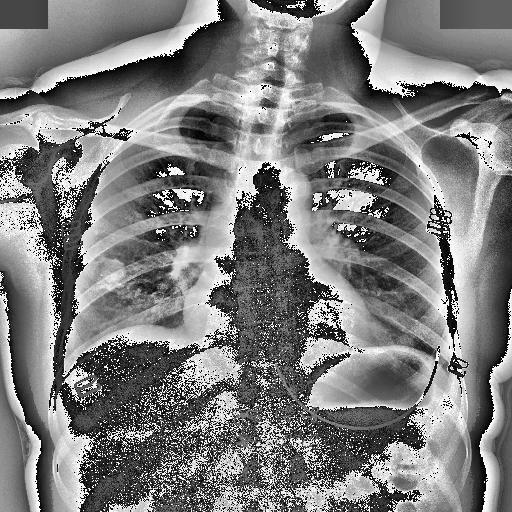0- Aortic enlargement: (252, 165, 312, 224)
7- Lung Opacity: (101, 256, 126, 292)
8- Nodule-Mass: (95, 258, 125, 284), (98, 258, 125, 282)
